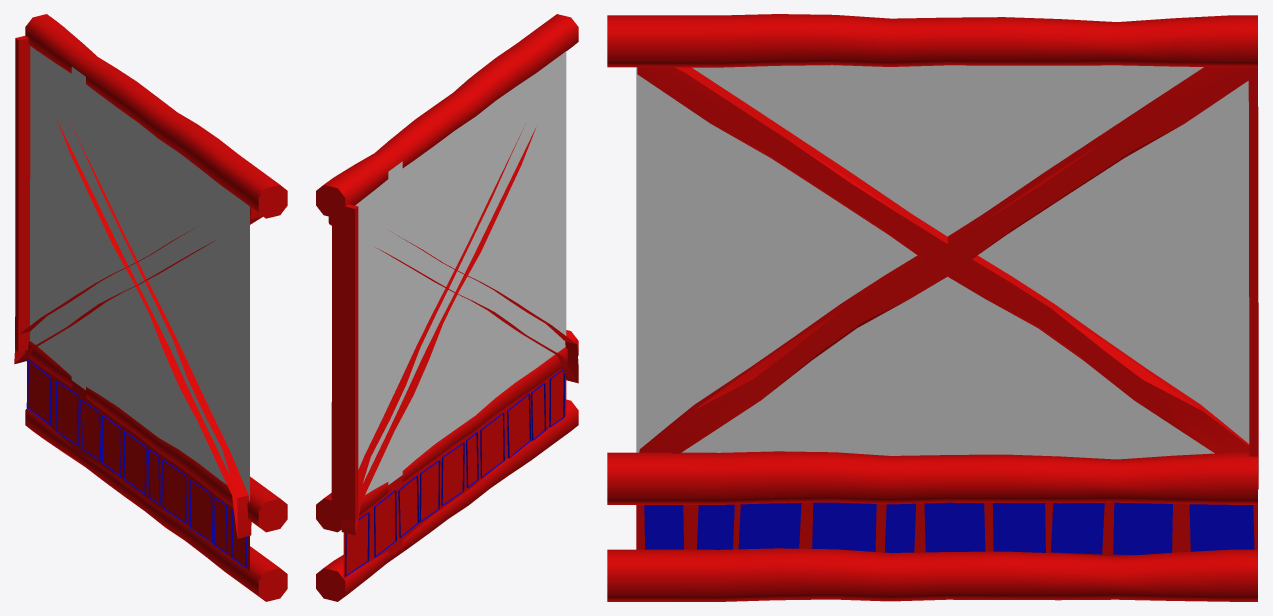
File: Wall Cross.fbx
3 renders of one model, left to right at view 1: azimuth 30°, elevation 25°; view 2: azimuth 150°, elevation 25°; view 3: azimuth 270°, elevation 25°, orthographic. The views are drawn at different scales.
Visible parts, largest first — view 1: Modular_Wall6; view 2: Modular_Wall6; view 3: Modular_Wall6.
Boxes of the visible parts, x1=… form: Modular_Wall6: x1=14, y1=14, x2=287, y2=601; Modular_Wall6: x1=316, y1=14, x2=578, y2=601; Modular_Wall6: x1=607, y1=14, x2=1258, y2=601.
Bounding box in the file's own units: 0.326 × 3.25 × 3.31.
